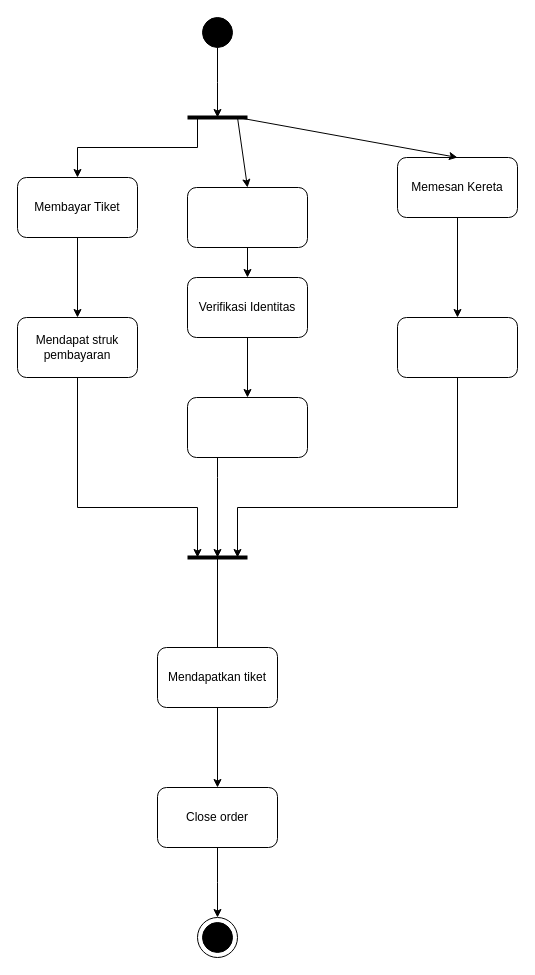
Image size: 535x975. Some labels were removed from this diagram. Here are the shapes that lost their labels. From the top down, the centre of each, then its label:
point (247, 217): Mengisi Identitas
point (457, 347): Memilih Tujuan
point (247, 427): Memilih Kursi
